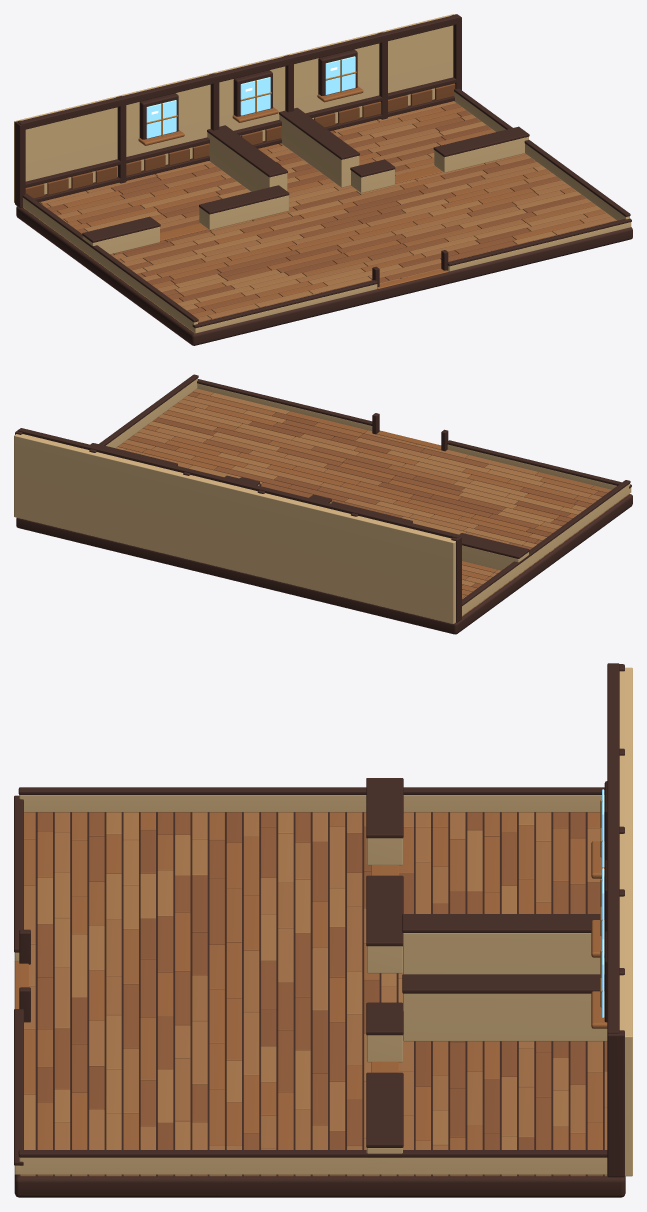
Rendered from architecture.glb.
3 renders of one model, top to bottom at view 1: azimuth 30°, elevation 25°; view 2: azimuth 150°, elevation 25°; view 3: azimuth 270°, elevation 25°, orthographic. The views are drawn at different scales.
Visible parts, largest first — view 1: architecture_pivot.001_Mesh; view 2: architecture_pivot.001_Mesh; view 3: architecture_pivot.001_Mesh.
Boxes of the visible parts, left/top/right/bottom form: architecture_pivot.001_Mesh: left=14, top=14, right=632, bottom=345; architecture_pivot.001_Mesh: left=14, top=374, right=632, bottom=634; architecture_pivot.001_Mesh: left=14, top=663, right=632, bottom=1197.
Bounding box in the file's own units: 18.26 × 3.83 × 12.86.
